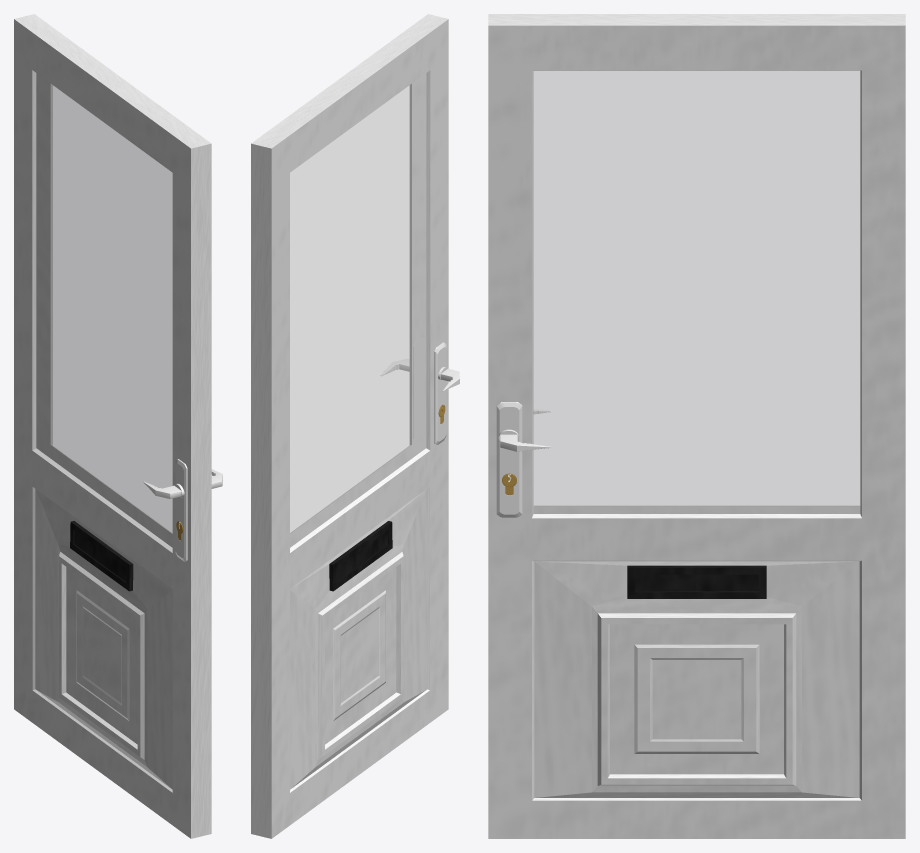
The model's file is door_tenakin.glb.
3 renders of one model, left to right at view 1: azimuth 30°, elevation 25°; view 2: azimuth 150°, elevation 25°; view 3: azimuth 270°, elevation 25°, orthographic. The views are drawn at different scales.
Parts seen in each view (by area): view 1: Object_2, Object_3, Object_4, Object_5; view 2: Object_2, Object_3, Object_5, Object_4; view 3: Object_2, Object_3, Object_4, Object_5.
Boxes of the visible parts, box(x1,y1,x2,y2) form: Object_2: box(14, 14, 211, 838); Object_3: box(36, 73, 172, 546); Object_4: box(70, 521, 133, 591); Object_5: box(143, 459, 222, 561); Object_2: box(251, 14, 448, 838); Object_3: box(290, 74, 425, 547); Object_5: box(380, 337, 459, 445); Object_4: box(329, 521, 392, 591); Object_2: box(488, 14, 905, 838); Object_3: box(533, 71, 860, 513); Object_4: box(627, 565, 766, 598); Object_5: box(496, 402, 550, 517).
Bounding box in the file's own units: 0.5452 × 5.34 × 2.48.
5 materials, 2 textured.
